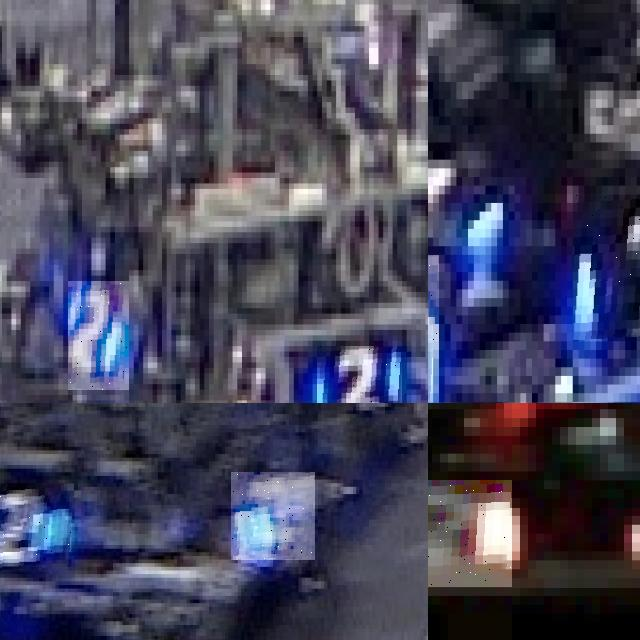B1: (572, 194, 640, 341), (428, 142, 508, 254)
B2: (231, 472, 315, 560), (0, 483, 74, 577), (68, 281, 129, 390), (317, 346, 406, 403)
Rs: (428, 480, 512, 586)
